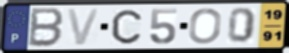0: (227, 6, 258, 46)
5: (148, 7, 179, 46)
B: (26, 7, 66, 48)
C: (110, 9, 144, 46)
O: (188, 7, 224, 45)
V: (66, 8, 102, 47)
